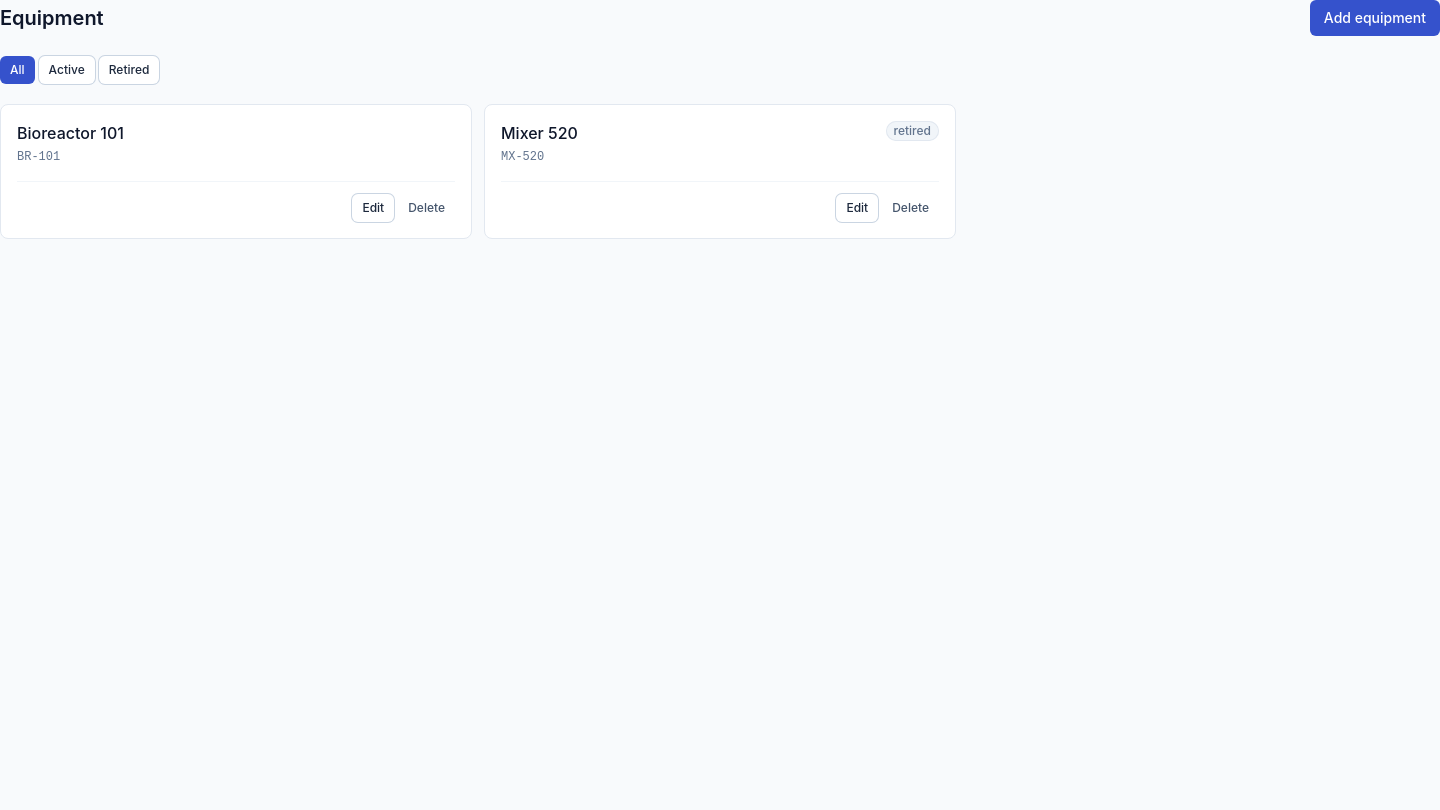
EquipmentListPage › surfaces the in-use refusal in place when deleting equipment with records
Expected: the link "Bioreactor 101" is shown, [17,121,124,145]
Click the 1st button "Delete" at (427, 208), box [398,194,455,222]
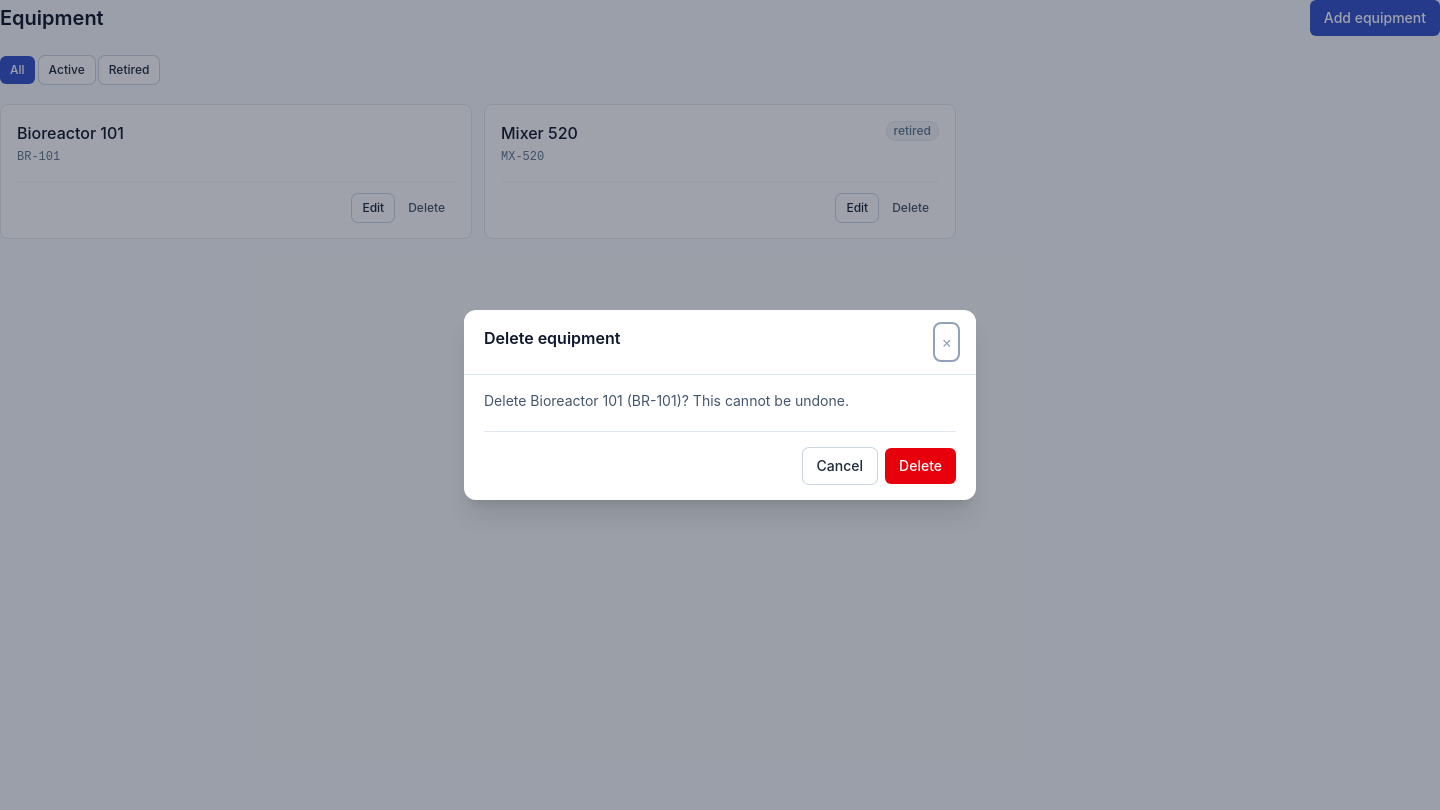
Click the button "Delete" at (921, 466), box [885,448,956,484]
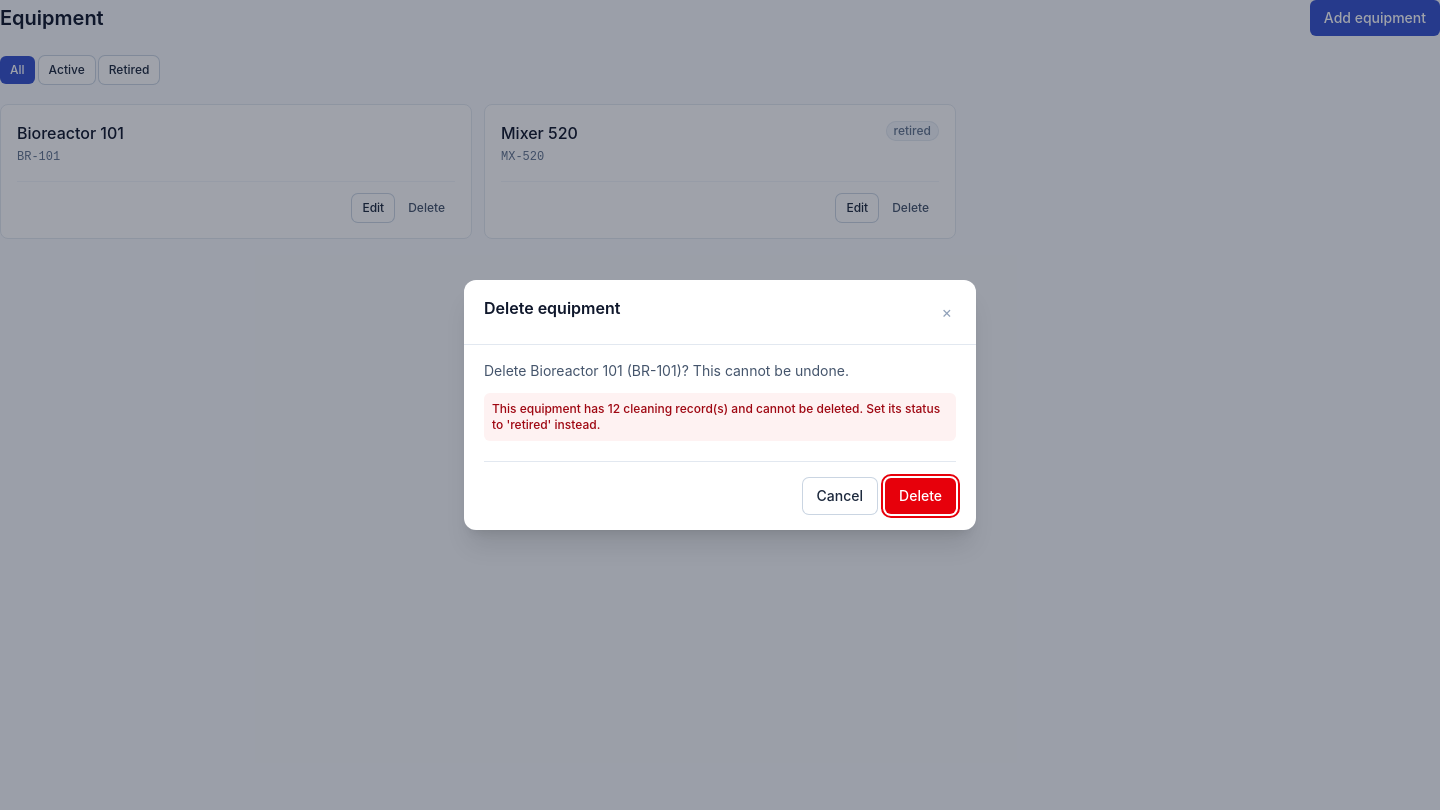
Expected: the link "Bioreactor 101" is shown, [17,121,124,145]
Expected: the message shows "cannot be deleted", [492,401,940,432]
